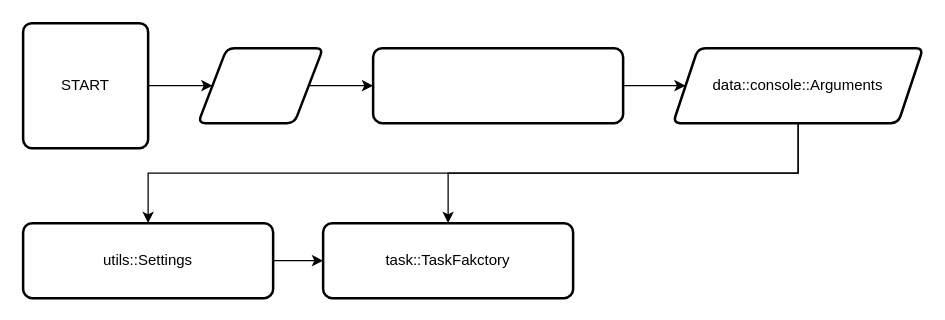
The diagram is 945 pixels wide and 320 high, and some of its shapes have lost their labels. The shapes that lost their labels are listed below. From the top down, each one's centre as x and y in pixels, then its label:
[260,85]: argc, argv[]
[497,85]: parser::Console
